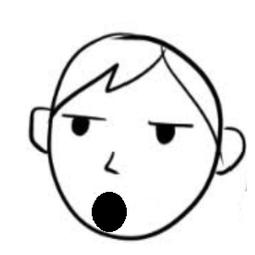ear: (213, 117, 249, 178), (26, 100, 57, 158)
eye: (143, 121, 194, 146), (61, 113, 106, 139)
open_mouth: (86, 186, 128, 236)
pointy_nose: (103, 149, 123, 177)
